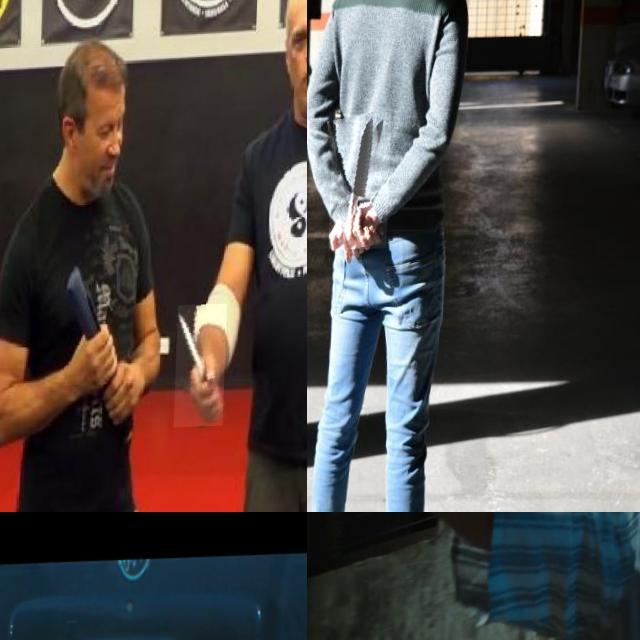-: (331, 115, 393, 252), (178, 306, 230, 429)
gun-knife-thesis - v11 Yolov5 augmented: (307, 512, 429, 617)
